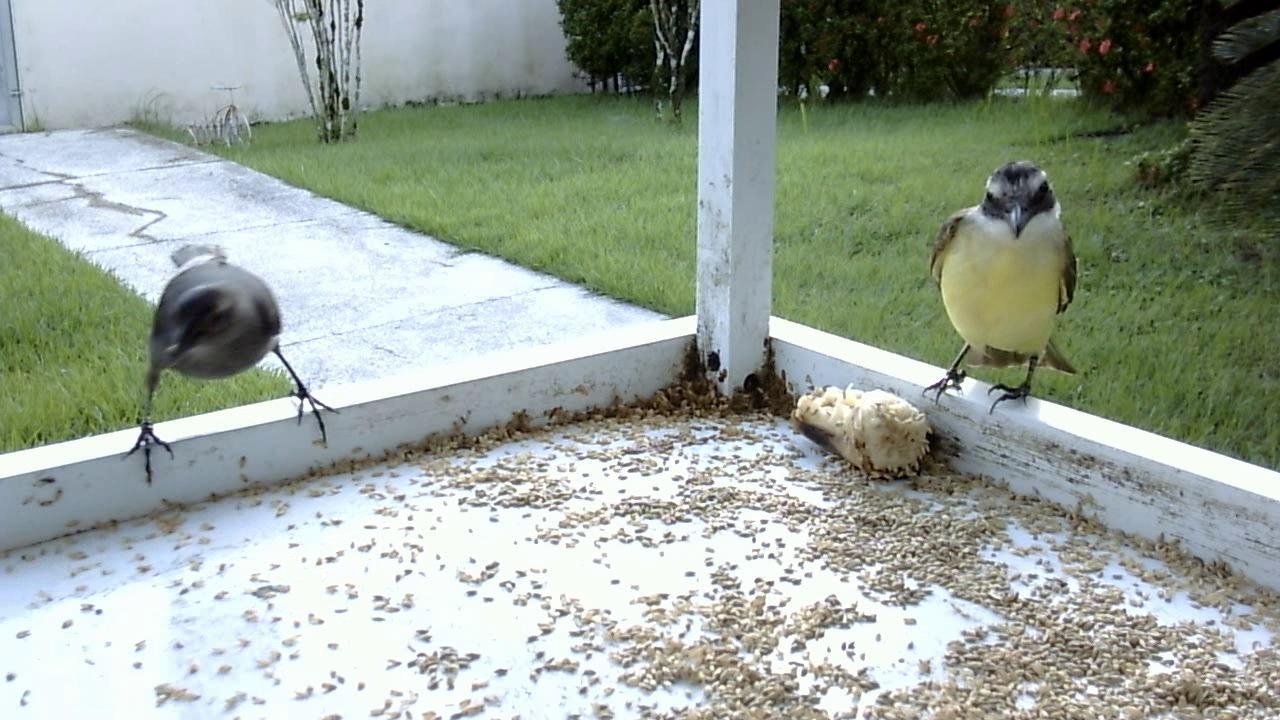bem_te_vi: (914, 155, 1082, 430)
chupim: (126, 234, 340, 482)
